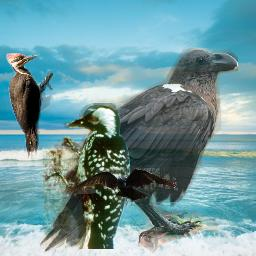Crow: (37, 48, 238, 253), (67, 168, 178, 206)
Woodpecker: (43, 103, 130, 249), (6, 53, 53, 159)
